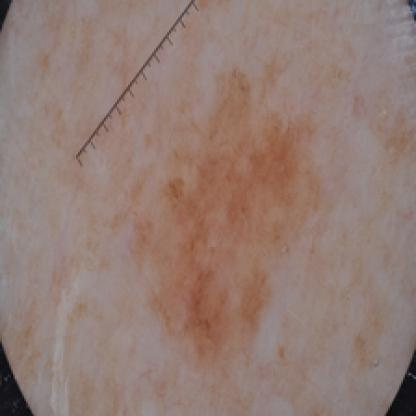malignant: (189, 123, 288, 321)
